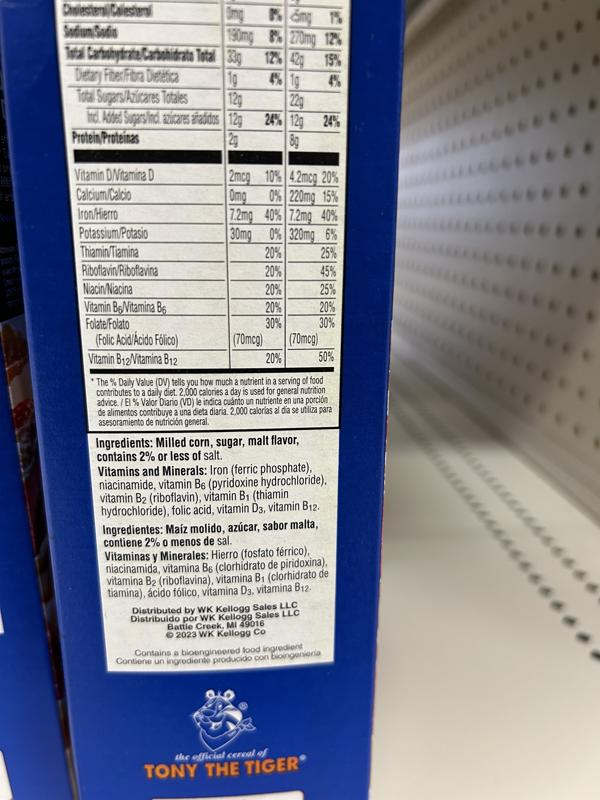ingredients: (93, 435, 302, 462)
